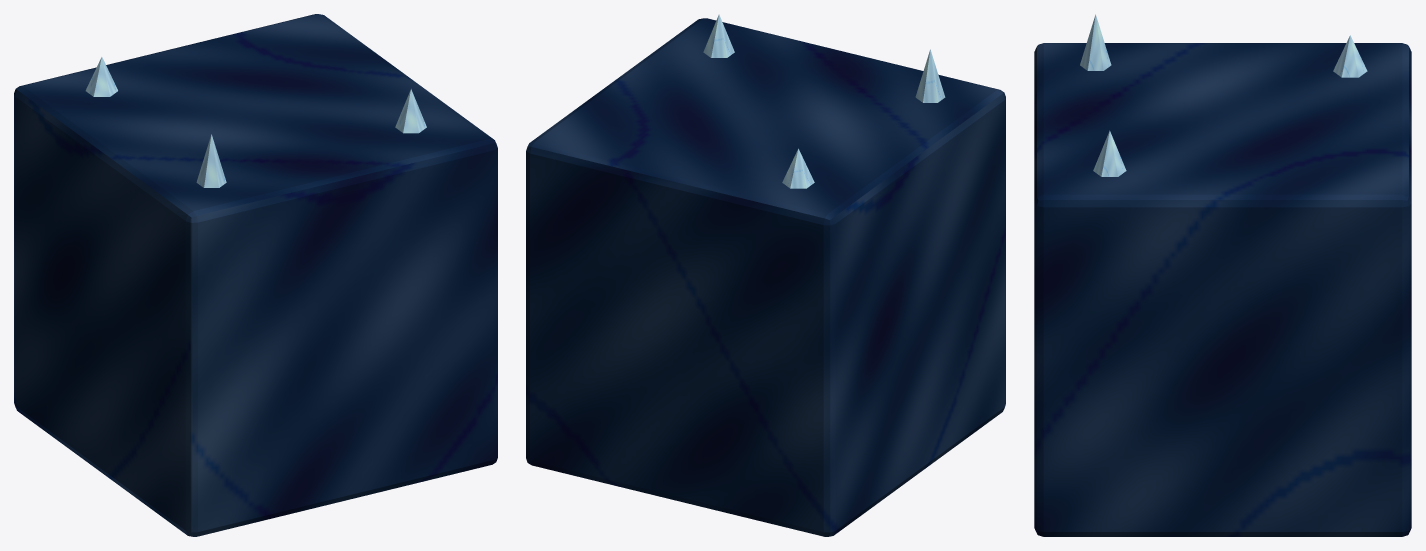
The model's file is 05_GlacierBlock.glb.
The picture shows the model from 3 angles, left to right: view 1: azimuth 30°, elevation 25°; view 2: azimuth 150°, elevation 25°; view 3: azimuth 270°, elevation 25°; orthographic projection. The views are drawn at different scales.
Parts seen in each view (by area): view 1: Part.004, IceCrystal, IceCrystal.001, IceCrystal.002; view 2: Part.004, IceCrystal, IceCrystal.001, IceCrystal.002; view 3: Part.004, IceCrystal, IceCrystal.001, IceCrystal.002.
Part boxes in pixels (x1,y1,x2,y2): Part.004: [14, 14, 497, 536]; IceCrystal: [196, 134, 226, 187]; IceCrystal.001: [395, 89, 426, 133]; IceCrystal.002: [85, 57, 117, 96]; Part.004: [526, 18, 1005, 536]; IceCrystal: [915, 49, 945, 102]; IceCrystal.001: [703, 14, 734, 57]; IceCrystal.002: [782, 148, 814, 188]; Part.004: [1034, 43, 1411, 536]; IceCrystal: [1080, 14, 1111, 70]; IceCrystal.001: [1093, 130, 1126, 176]; IceCrystal.002: [1333, 35, 1367, 77].
Size of the model in its own units: 4 by 4.6 by 4.
Materials: 2 (2 with a texture image).
